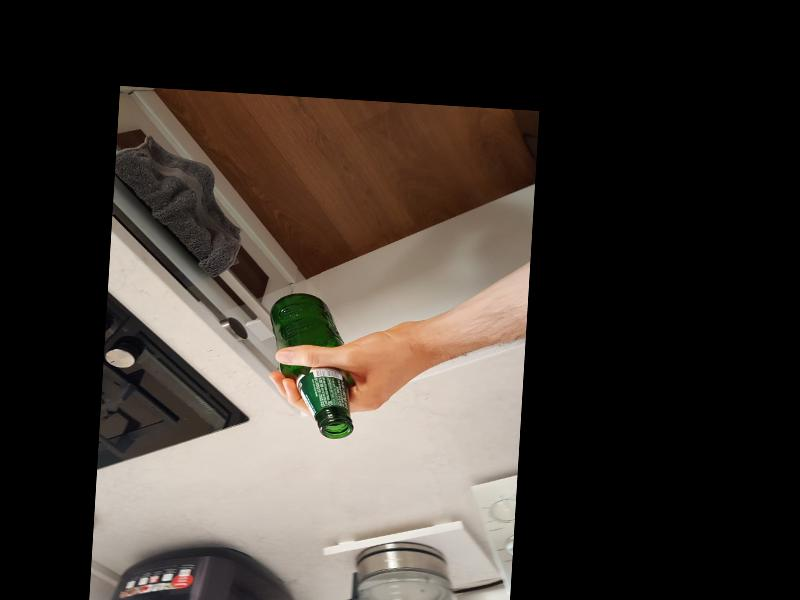Beer: (262, 290, 361, 439)
